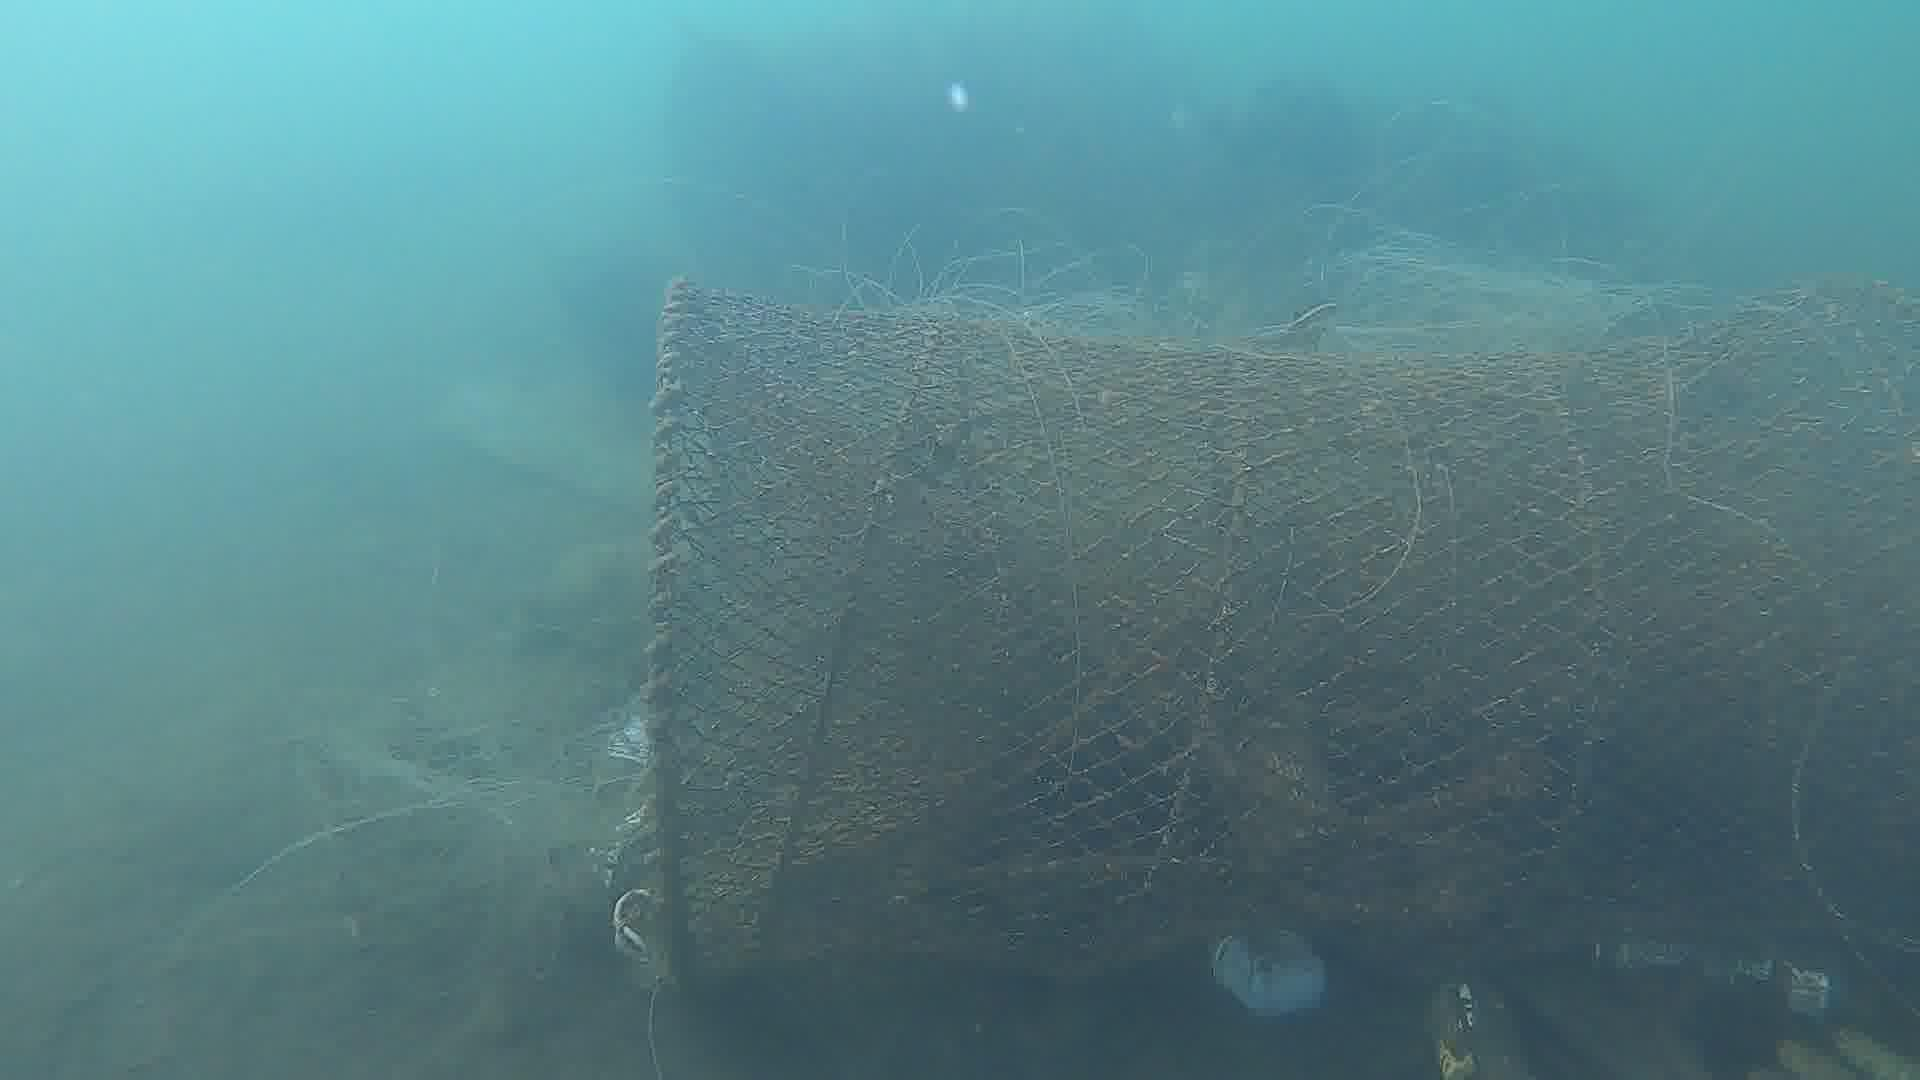spring fish trap: (638, 266, 1920, 1079)
